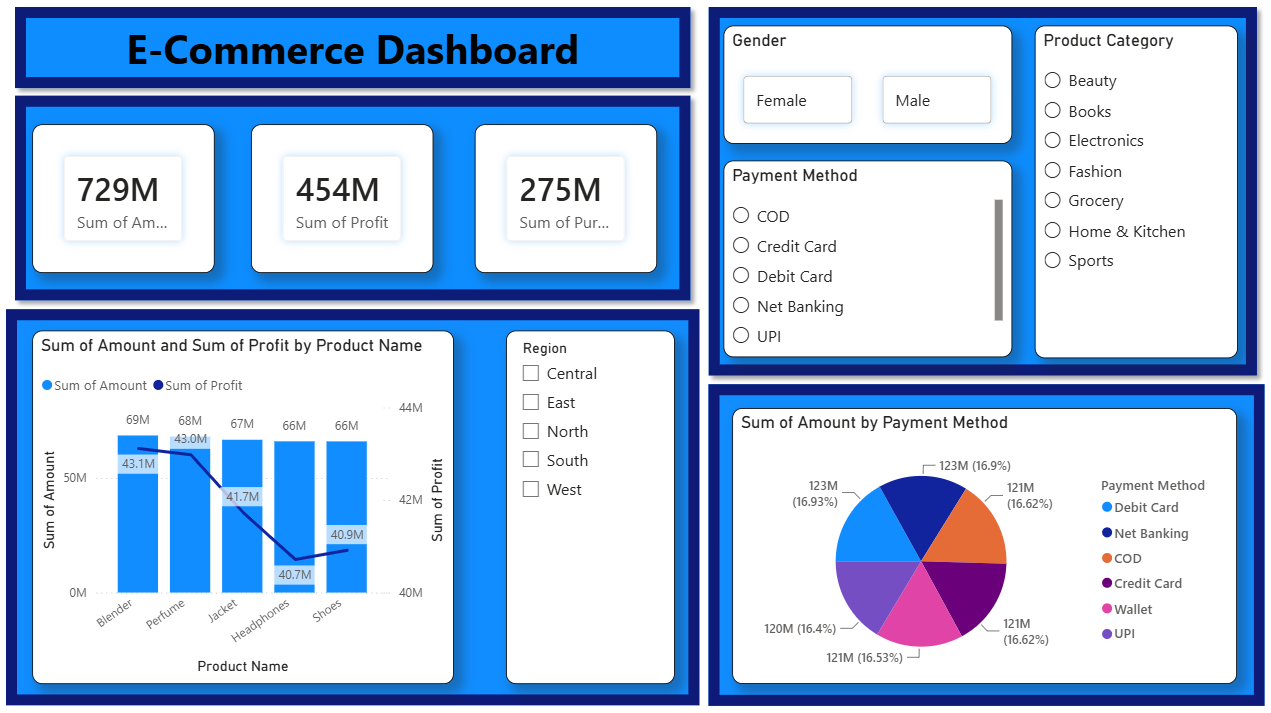

The page's visual inventory and layout, read from the dashboard file:
{"tool":"powerbi","page":{"name":"Page 1","canvas":[1280,720],"ordinal":0},"visuals":[{"type":"shape","box":[9.8,0,693.3,99],"z":0},{"type":"shape","box":[9.8,89.3,693.3,222.6],"z":1000},{"type":"shape","box":[703.1,0,566.2,386.4],"z":2000},{"type":"advancedSlicerVisual","fields":{"Values":["Ecommerce Sales Data.Gender"]},"box":[727.6,26.9,288.6,118.6],"z":3000},{"type":"listSlicer","fields":{"Values":["Ecommerce Sales Data.Payment Method"]},"box":[727.6,162.6,288.6,196.9],"z":4000},{"type":"listSlicer","fields":{"Values":["Ecommerce Sales Data.Product Category"]},"box":[1038.2,26.9,203,332.6],"z":5000},{"type":"cardVisual","fields":{"Data":["Sum(Ecommerce Sales Data.Amount)"]},"box":[36.7,126,182.2,149.2],"z":6000},{"type":"cardVisual","fields":{"Data":["Sum(Ecommerce Sales Data.Purchase Cost)"]},"box":[479.4,126,182.2,149.2],"z":7000},{"type":"cardVisual","fields":{"Data":["Sum(Ecommerce Sales Data.Profit)"]},"box":[255.6,126,182.2,149.2],"z":8000},{"type":"shape","box":[9.8,311.8,693.3,396.2],"z":9000},{"type":"lineClusteredColumnComboChart","fields":{"Category":["Ecommerce Sales Data.Product Name"],"Y":["Sum(Ecommerce Sales Data.Amount)"],"Y2":["Sum(Ecommerce Sales Data.Profit)"]},"box":[36.7,332.6,421.9,353.4],"z":10000},{"type":"slicer","fields":{"Values":["Ecommerce Sales Data.Region"]},"box":[509.9,332.6,168.8,353.4],"z":11000},{"type":"shape","box":[712.9,386.4,556.4,321.6],"z":12000},{"type":"pieChart","fields":{"Category":["Ecommerce Sales Data.Payment Method"],"Y":["Sum(Ecommerce Sales Data.Amount)"]},"box":[736.1,409.6,505,276.4],"z":13000}]}

Visuals, with their boxes in screenshot pixels (x1, y1, x2, y2), scaled from the page's 1280x720 canvas onto the 1271x713 screenshot:
shape: left=10, top=0, right=698, bottom=98
shape: left=10, top=88, right=698, bottom=309
shape: left=698, top=0, right=1260, bottom=383
advancedSlicerVisual - Ecommerce Sales Data.Gender: left=722, top=27, right=1009, bottom=144
listSlicer - Ecommerce Sales Data.Payment Method: left=722, top=161, right=1009, bottom=356
listSlicer - Ecommerce Sales Data.Product Category: left=1031, top=27, right=1232, bottom=356
cardVisual - Sum(Ecommerce Sales Data.Amount): left=36, top=125, right=217, bottom=273
cardVisual - Sum(Ecommerce Sales Data.Purchase Cost): left=476, top=125, right=657, bottom=273
cardVisual - Sum(Ecommerce Sales Data.Profit): left=254, top=125, right=435, bottom=273
shape: left=10, top=309, right=698, bottom=701
lineClusteredColumnComboChart - Ecommerce Sales Data.Product Name x Sum(Ecommerce Sales Data.Amount): left=36, top=329, right=455, bottom=679
slicer - Ecommerce Sales Data.Region: left=506, top=329, right=674, bottom=679
shape: left=708, top=383, right=1260, bottom=701
pieChart - Ecommerce Sales Data.Payment Method x Sum(Ecommerce Sales Data.Amount): left=731, top=406, right=1232, bottom=679
